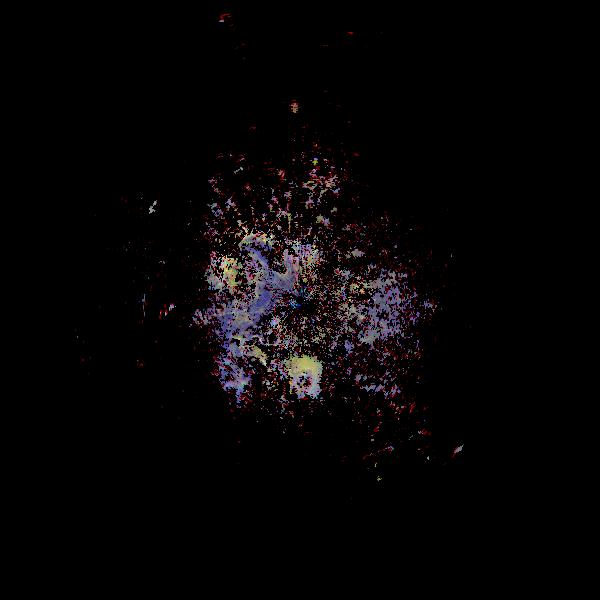roost: (274, 346, 331, 403), (381, 271, 414, 304)
